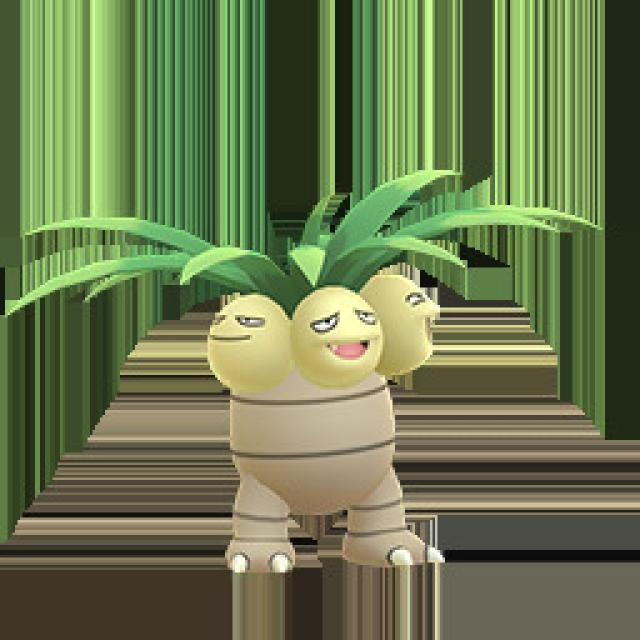Exeggutor: (175, 220, 470, 578)
